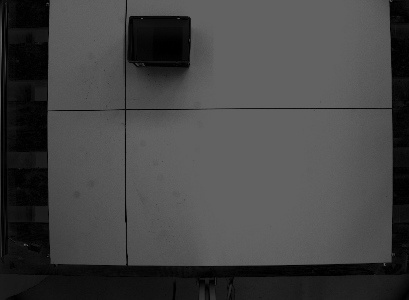klts: (125, 12, 194, 69)
